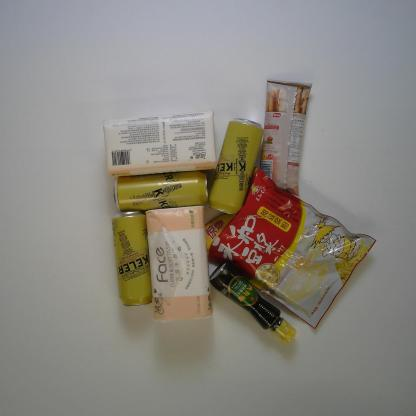Alcohol: (207, 116, 266, 217), (109, 209, 158, 311), (111, 170, 212, 215)
Dessert: (258, 78, 315, 201)
Instant Drink: (188, 164, 378, 330)
Seasoner: (207, 260, 300, 348)
Tissue: (142, 205, 217, 324), (99, 109, 223, 180)
